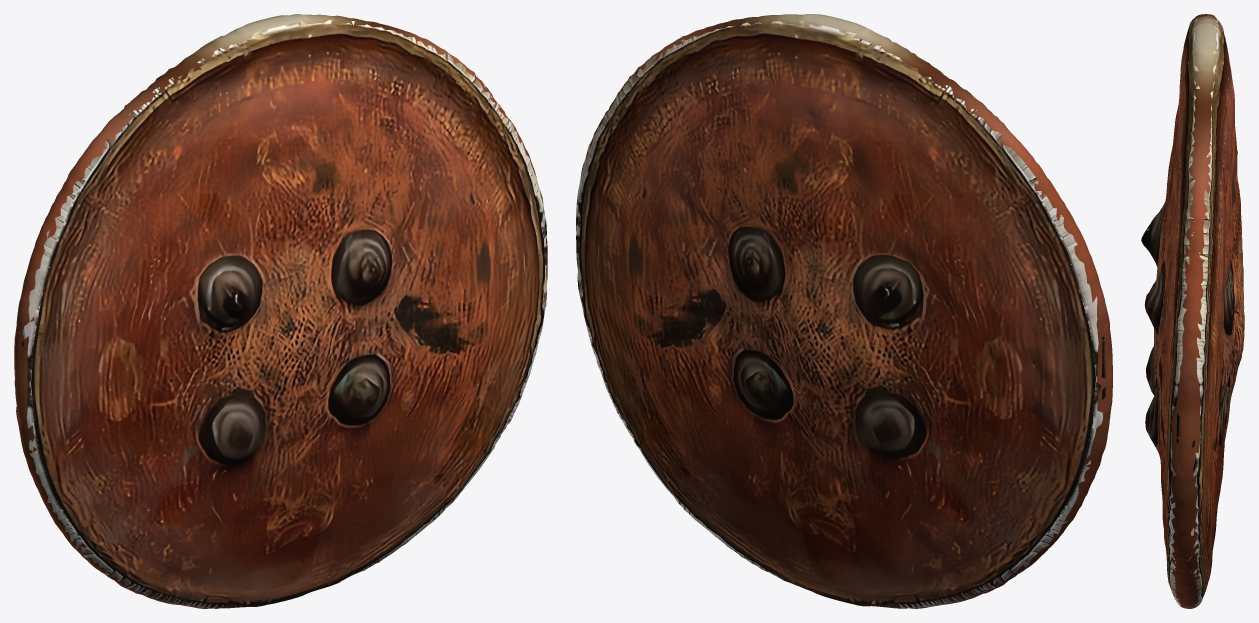
Rendered from kfl-2134.glb.
The picture shows the model from 3 angles, left to right: view 1: azimuth 30°, elevation 25°; view 2: azimuth 150°, elevation 25°; view 3: azimuth 270°, elevation 25°; orthographic projection. The views are drawn at different scales.
Parts seen in each view (by area): view 1: kfl-2134; view 2: kfl-2134; view 3: kfl-2134.
Boxes of the visible parts, x1=… form: kfl-2134: x1=14, y1=14, x2=547, y2=608; kfl-2134: x1=576, y1=14, x2=1112, y2=608; kfl-2134: x1=1141, y1=14, x2=1244, y2=608.
Bounding box in the file's own units: 0.9494 × 0.9899 × 0.1701.
Materials: 4 (4 with a texture image).
